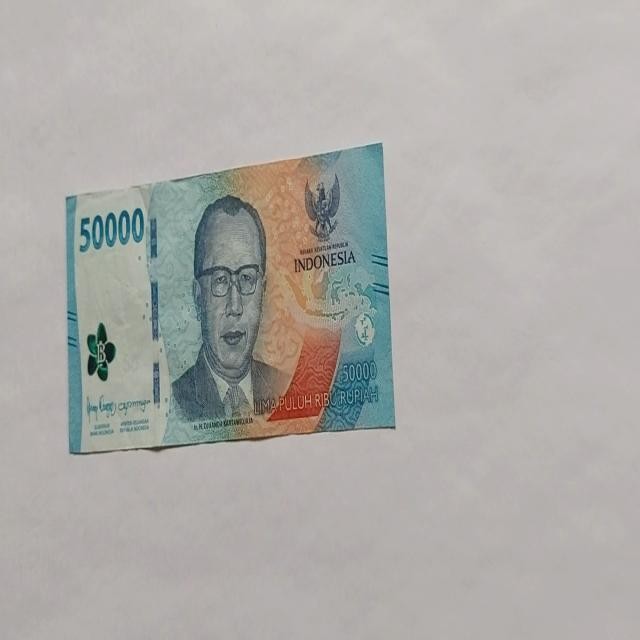lima puluh ribu rupiah: (65, 142, 395, 454), (165, 193, 288, 431)
